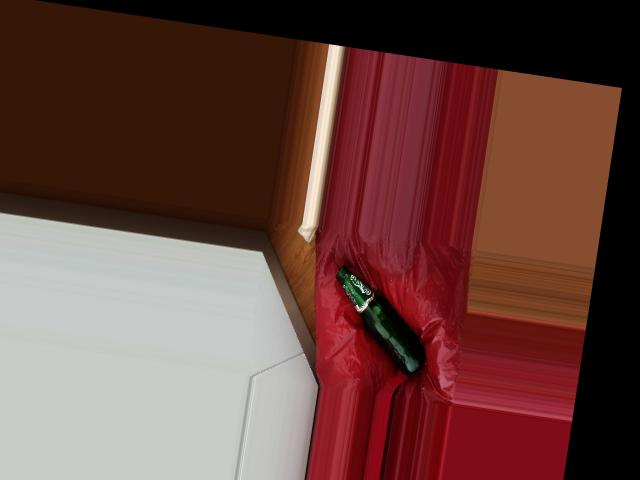beer: (323, 263, 436, 375)
